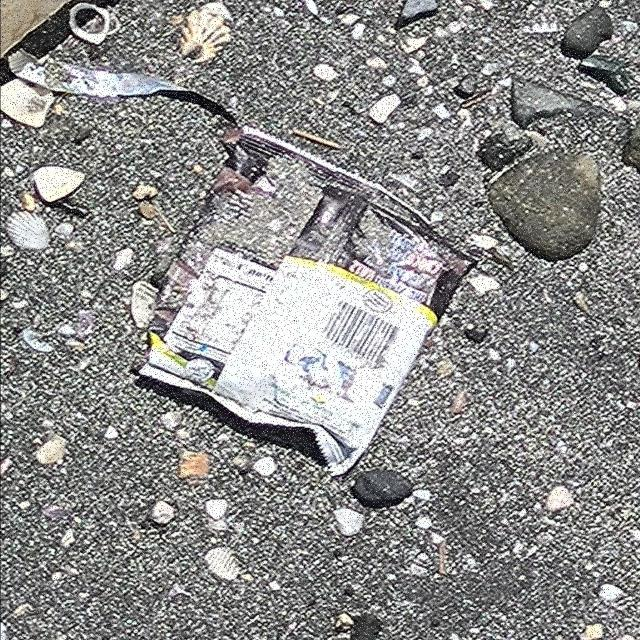plastic_waste: (137, 124, 496, 480)
